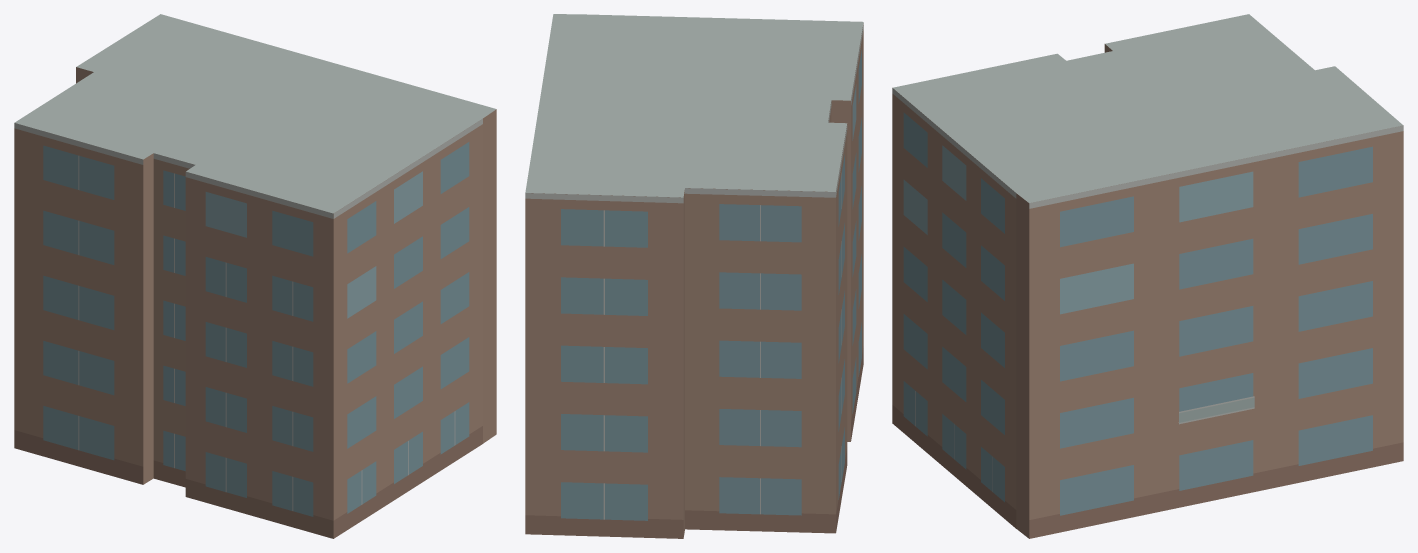
Rendered from survey-upis-32945394.glb.
The picture shows the model from 3 angles, left to right: view 1: azimuth 30°, elevation 25°; view 2: azimuth 150°, elevation 25°; view 3: azimuth 270°, elevation 25°; orthographic projection. The views are drawn at different scales.
Parts seen in each view (by area): view 1: survey-upis-32945394.tmp; view 2: survey-upis-32945394.tmp; view 3: survey-upis-32945394.tmp.
Part boxes in pixels (<box>): survey-upis-32945394.tmp: <box>14,14,496,538</box>; survey-upis-32945394.tmp: <box>525,14,863,538</box>; survey-upis-32945394.tmp: <box>892,14,1403,538</box>.
Size of the model in its own units: 17.42 by 14.4 by 19.88.
